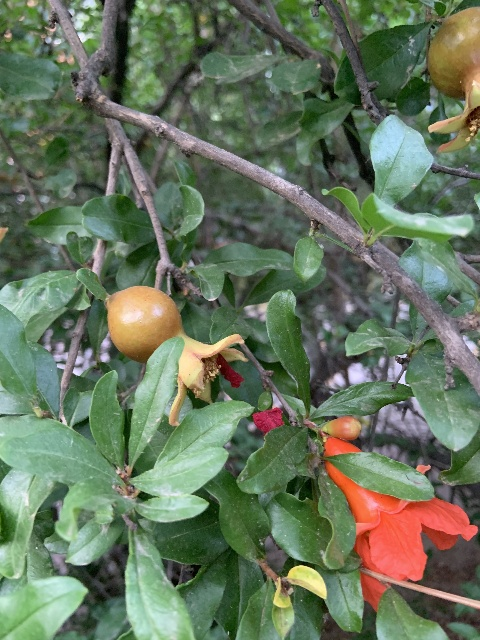bud: (327, 415, 361, 440)
early-fruit: (106, 286, 248, 427)
flower: (323, 437, 477, 610)
mid-growth: (426, 6, 479, 156)
